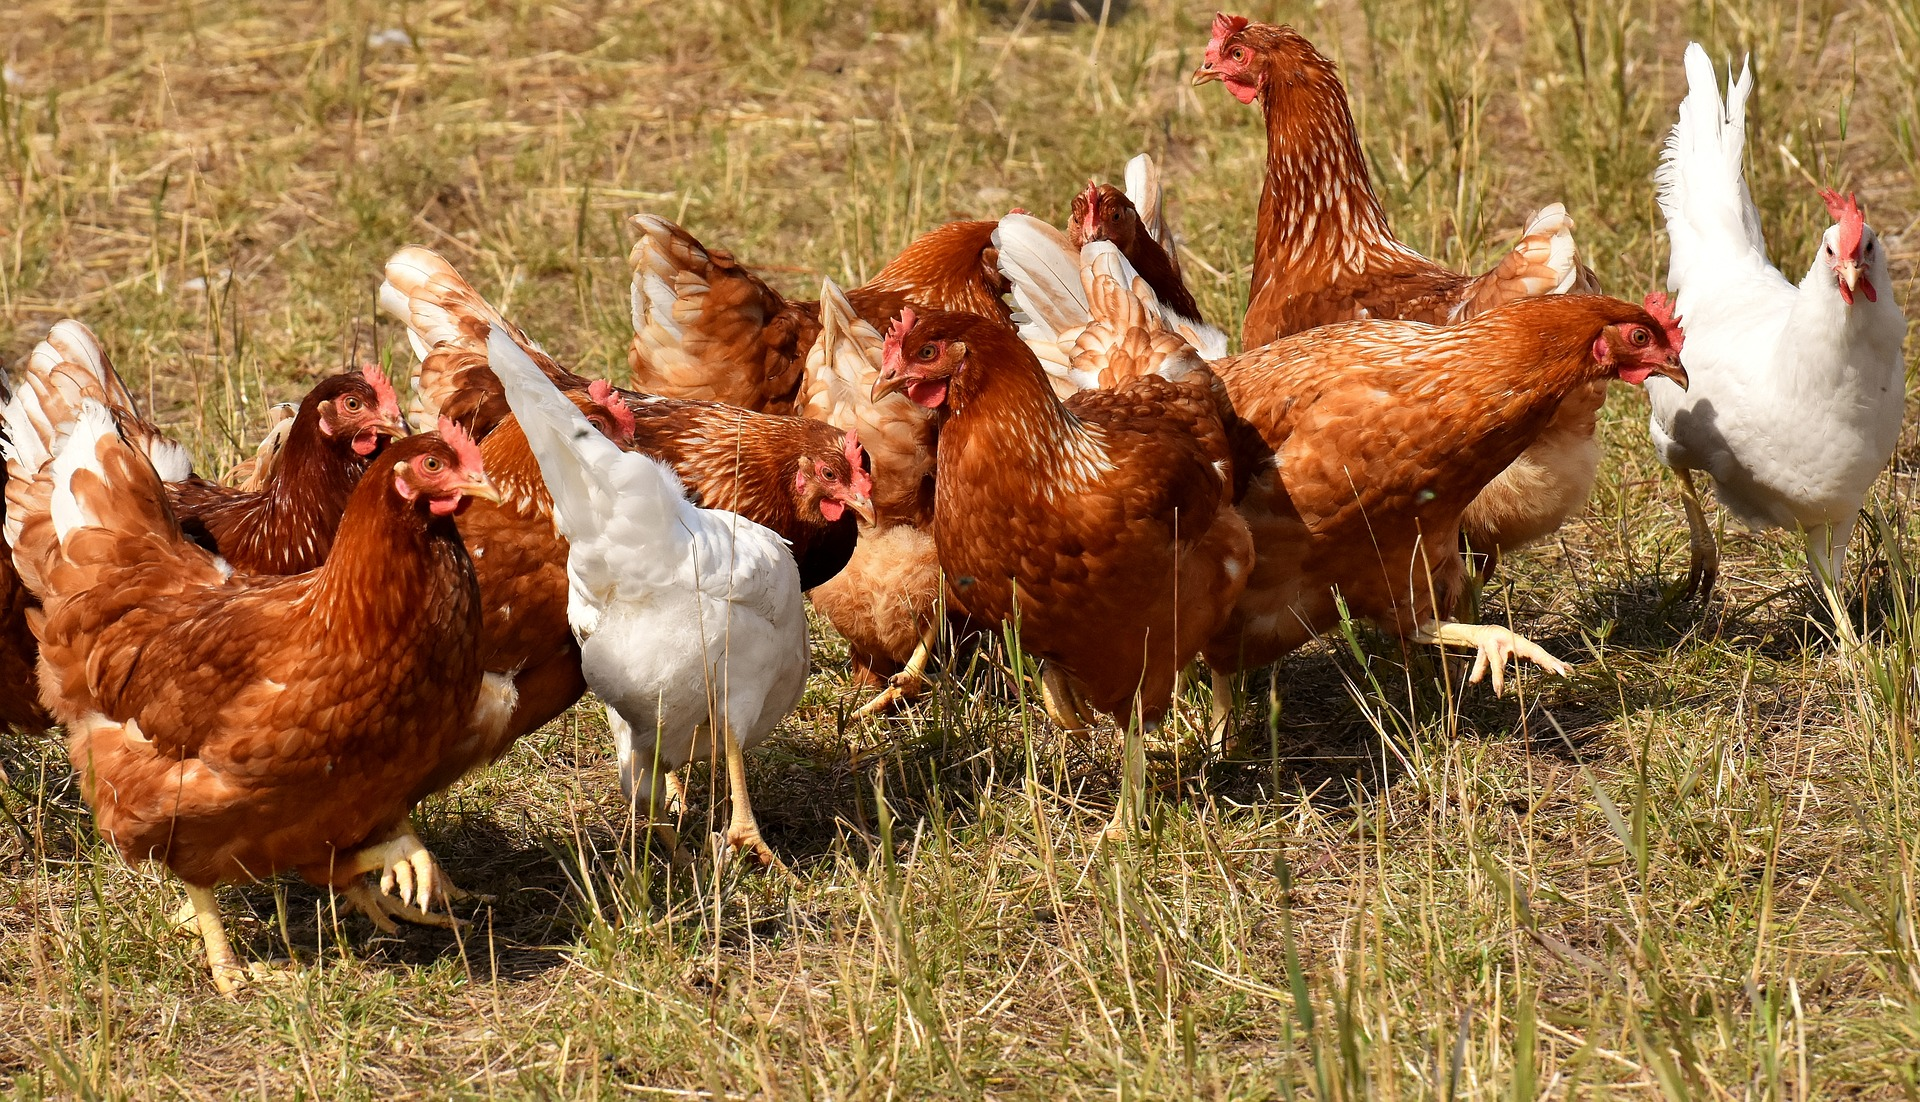chicken: (5, 319, 514, 971), (1203, 269, 1693, 753), (479, 330, 806, 921), (1629, 36, 1920, 670), (862, 283, 1247, 753), (375, 272, 872, 598), (1187, 8, 1625, 326), (191, 359, 411, 579), (1059, 171, 1178, 304)
